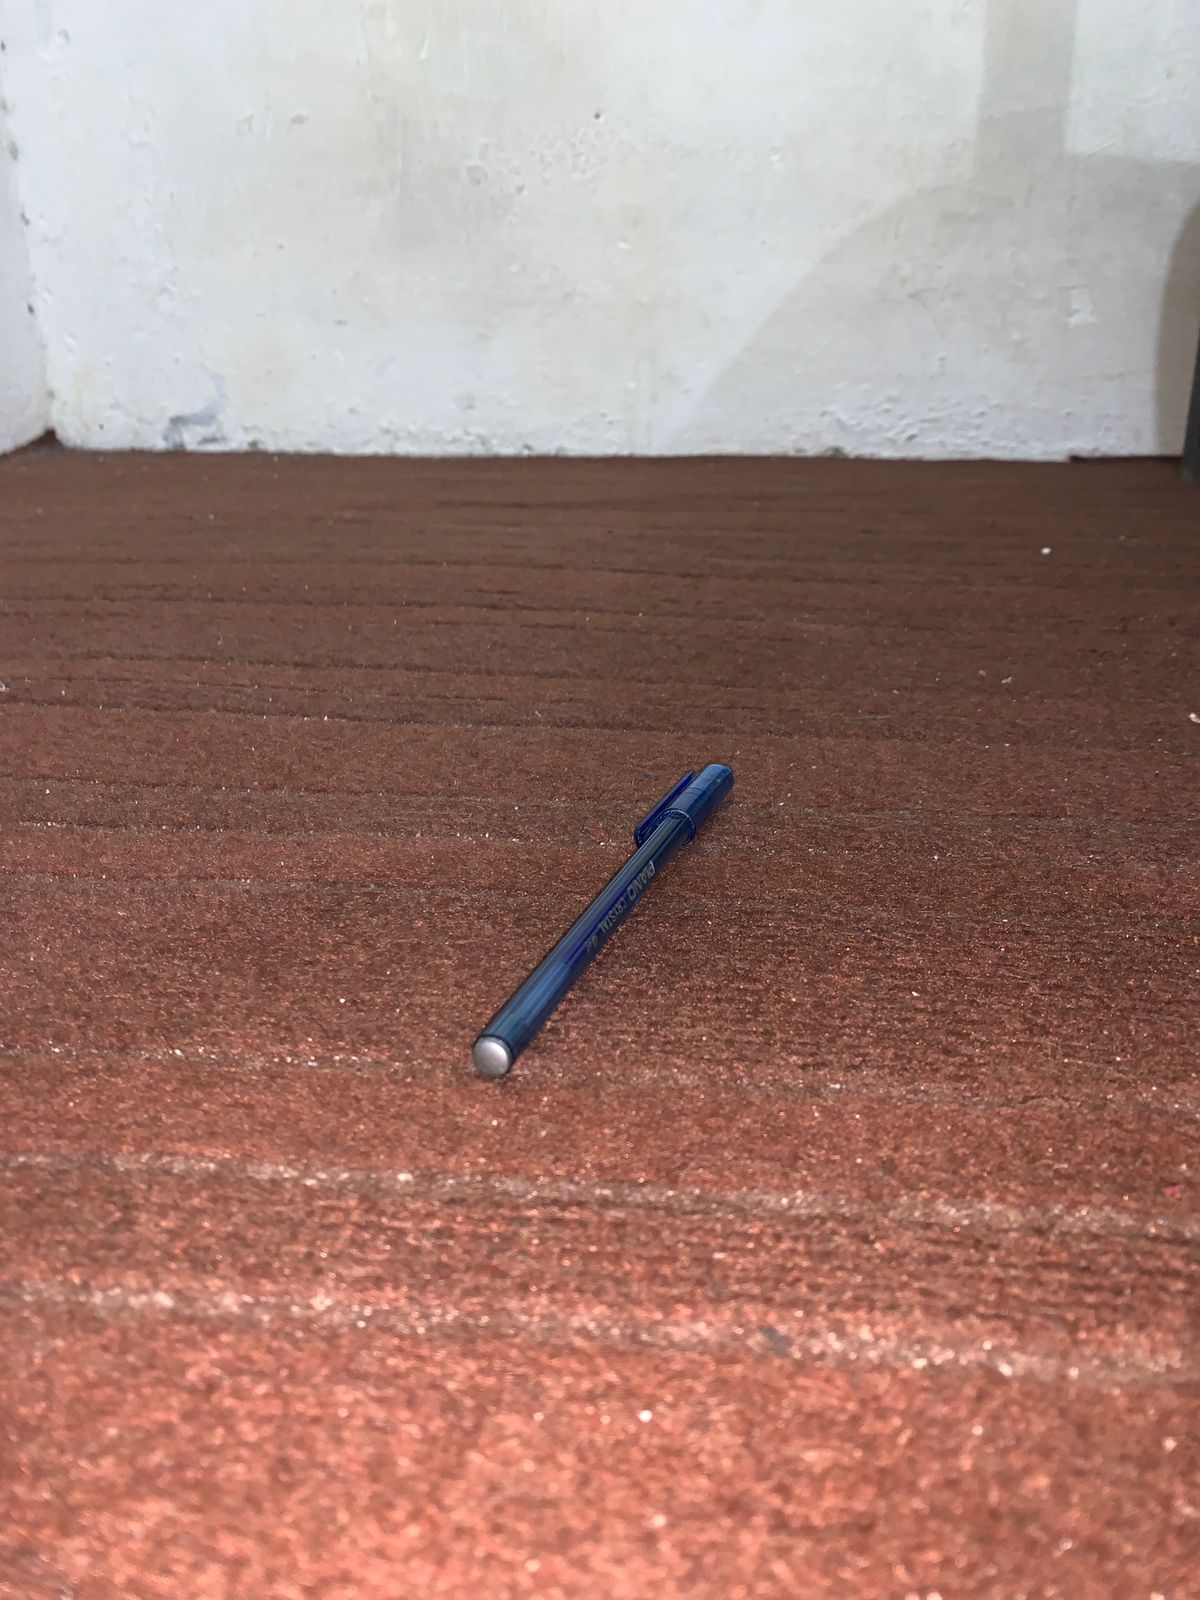pen: (416, 711, 795, 1160)
